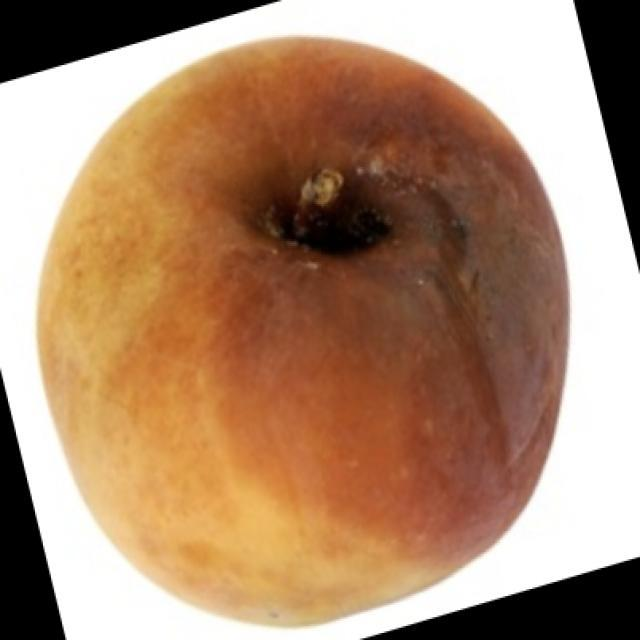Rotten: (14, 23, 564, 615)
